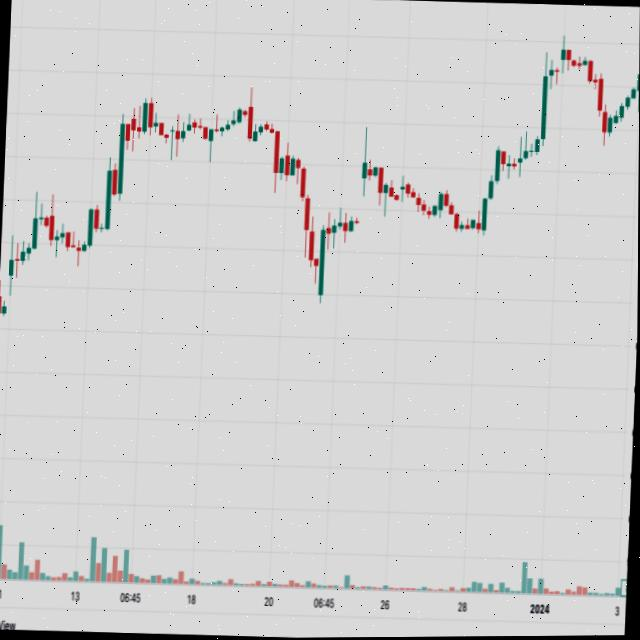Gap Up: (350, 122, 371, 257), (1, 240, 16, 329)
